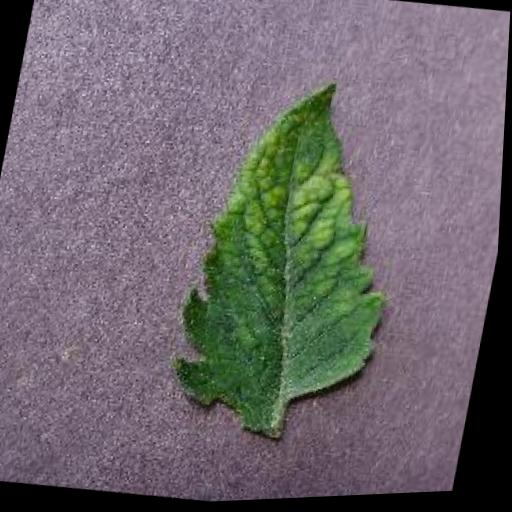Mosaic Virus: (163, 64, 430, 437)
